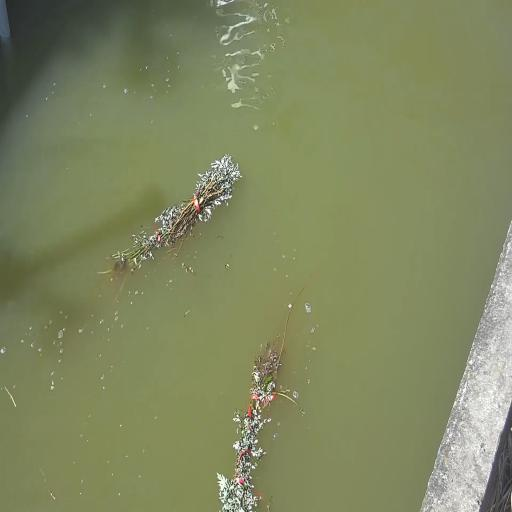twig: (218, 273, 314, 511), (98, 154, 242, 275)
